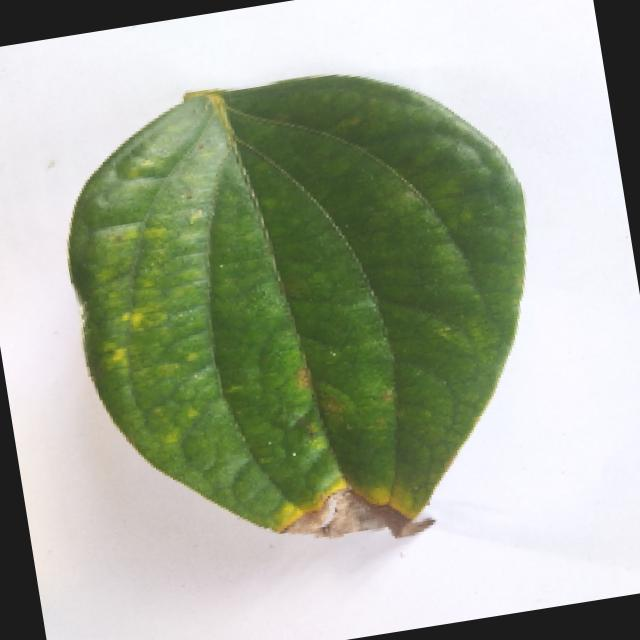footrot: (28, 45, 584, 600)
